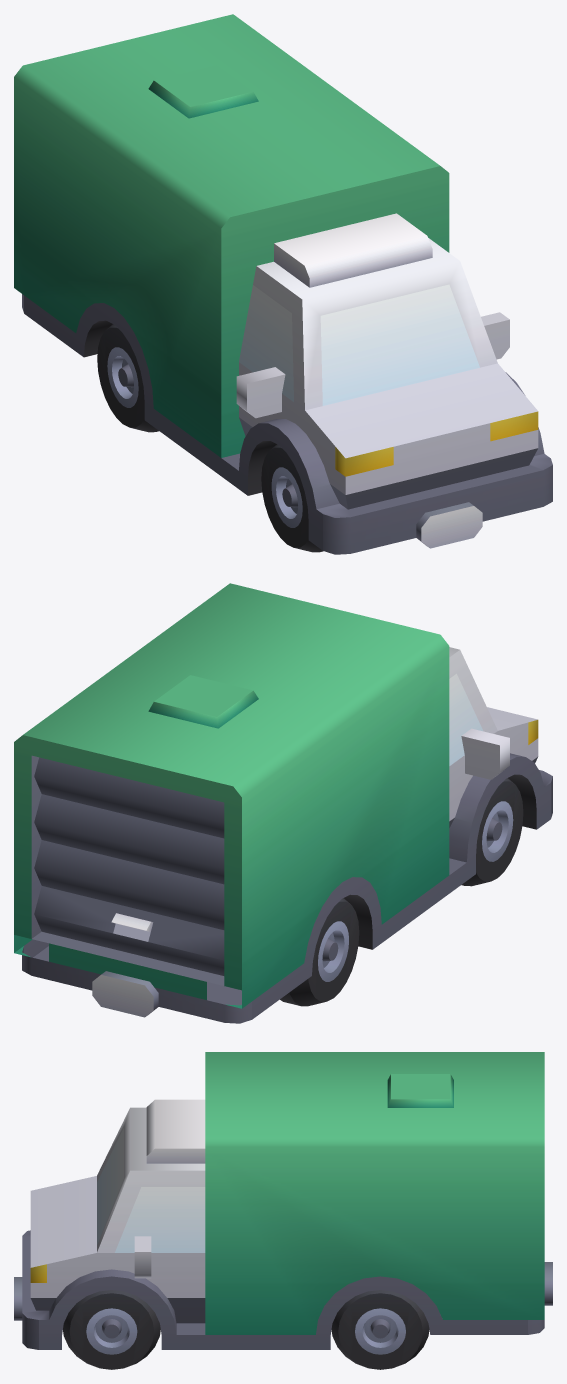
Rendered from delivery_van.glb.
The picture shows the model from 3 angles, top to bottom: view 1: azimuth 30°, elevation 25°; view 2: azimuth 150°, elevation 25°; view 3: azimuth 270°, elevation 25°; orthographic projection. The views are drawn at different scales.
Parts seen in each view (by area): view 1: door; view 2: door; view 3: door.
Boxes of the visible parts, x1,y1,x2,y2 form: door: (14,14,552,554); door: (14,583,552,1023); door: (14,1052,552,1369).
Bounding box in the file's own units: 1.5 × 1.65 × 3.25.
1 material, 1 textured.
